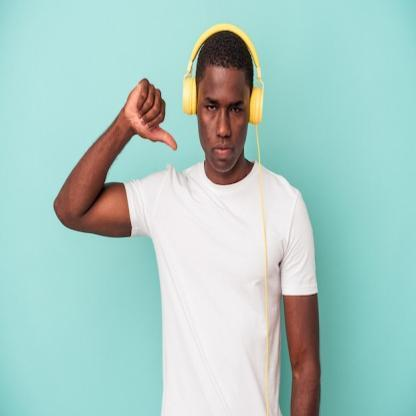thumb_down: (121, 74, 178, 152)
